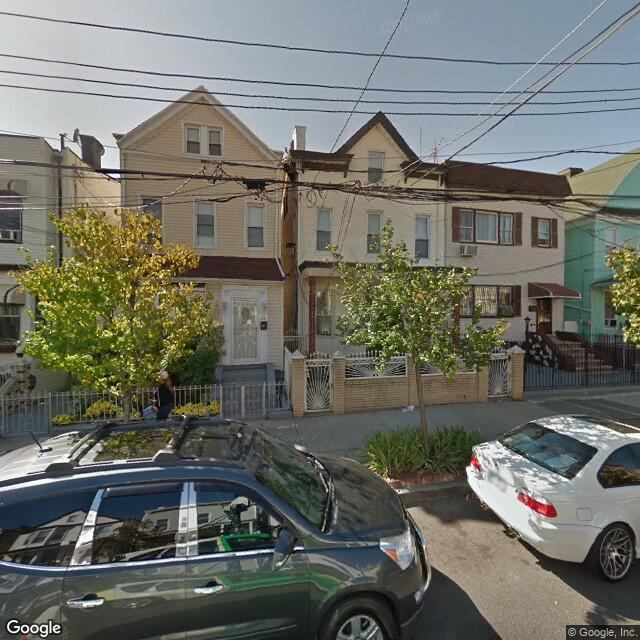litter: (400, 403, 428, 416)
